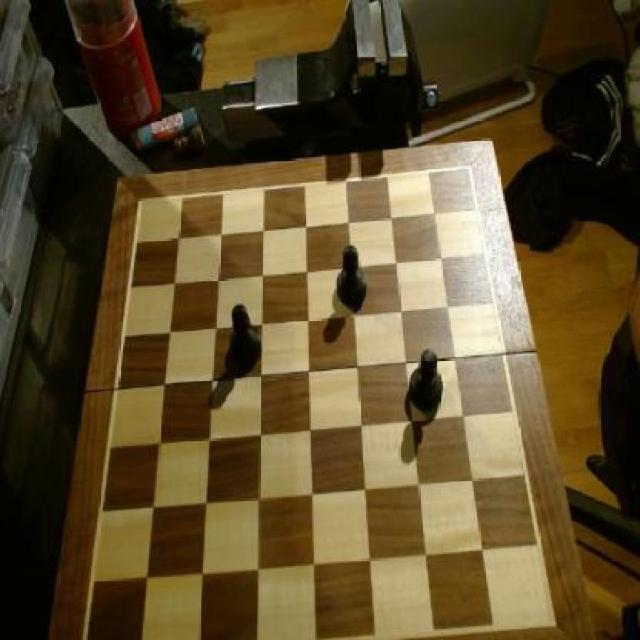black-knight: (408, 349, 444, 418), (228, 303, 263, 371), (336, 244, 368, 312)
